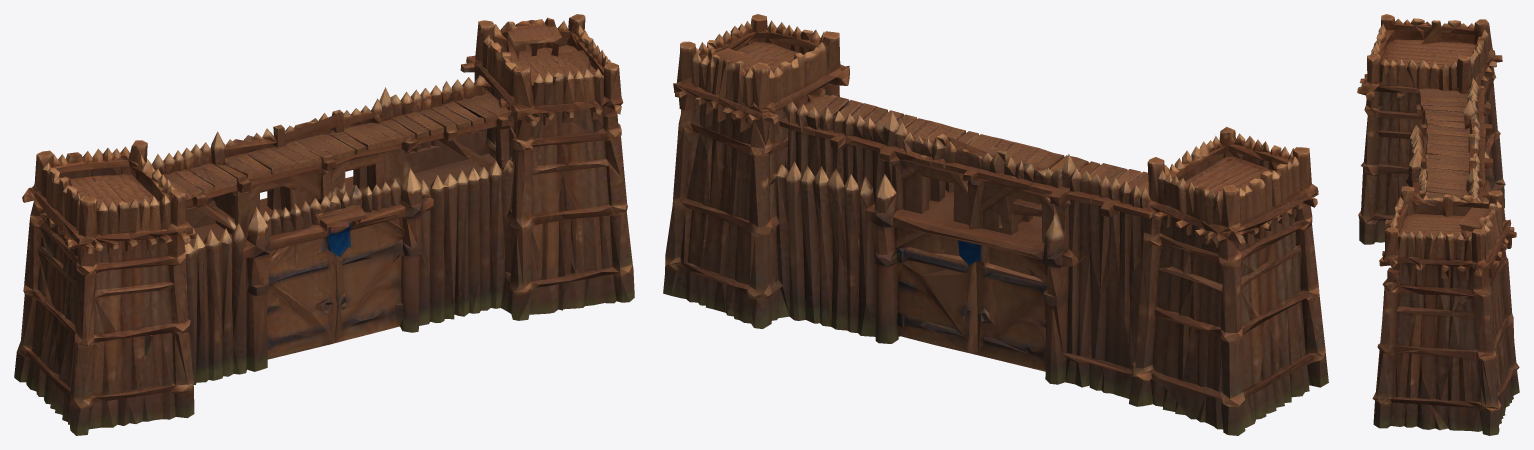
The model's file is gatehouse.glb.
3 views of the same model, side by side, from view 1: azimuth 30°, elevation 25°; view 2: azimuth 150°, elevation 25°; view 3: azimuth 270°, elevation 25° (orthographic). The views are drawn at different scales.
Bounding box in the file's own units: 1.9 × 0.7629 × 0.5503.
Materials: 1 (1 with a texture image).
